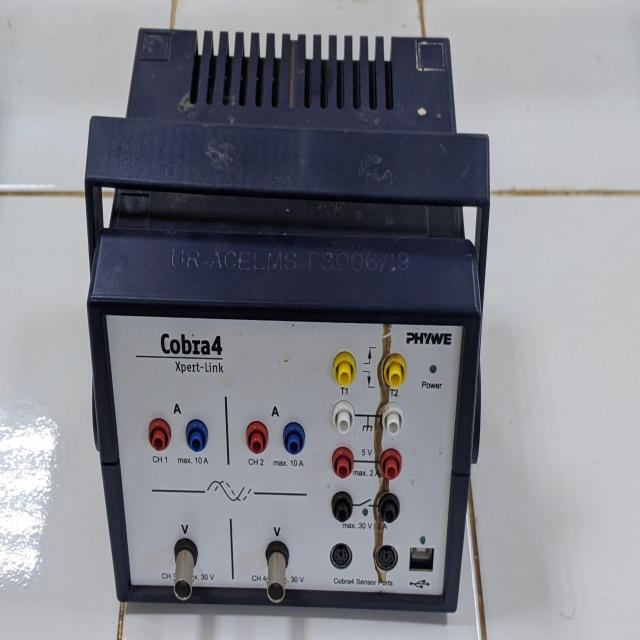Power Supply of Speed of Light Demo: (77, 22, 503, 638)
